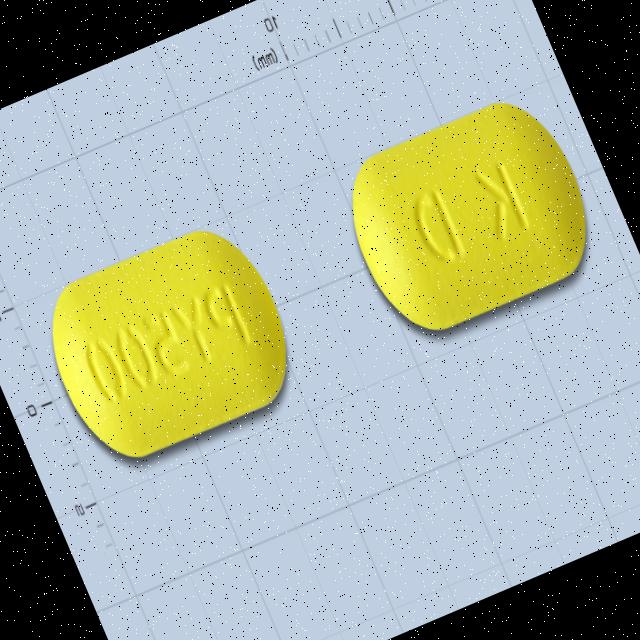Pyrocin Tab: (326, 82, 610, 348), (26, 211, 309, 474)
